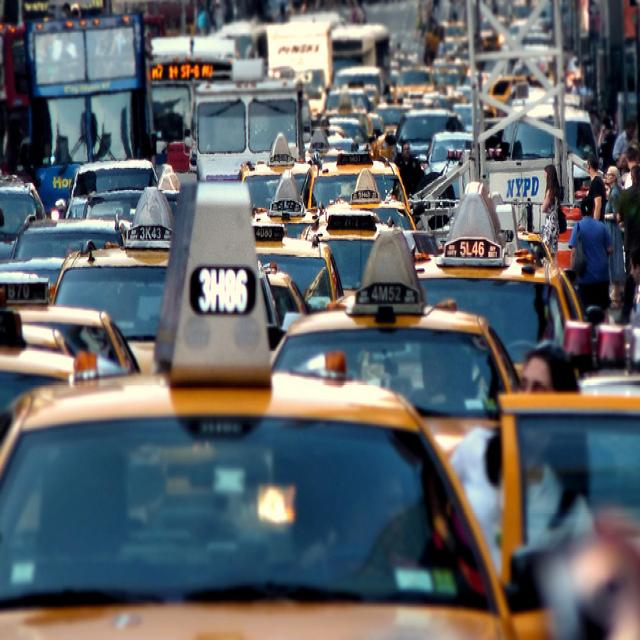Vehicle: (0, 185, 554, 640), (270, 230, 524, 460), (416, 182, 582, 374), (27, 10, 155, 203), (47, 187, 177, 376), (190, 69, 305, 183), (185, 79, 307, 184), (0, 346, 141, 412), (3, 304, 140, 371), (150, 36, 234, 140), (10, 214, 126, 283), (302, 203, 383, 297), (255, 234, 344, 314), (299, 153, 406, 212), (325, 168, 418, 230), (67, 160, 159, 216), (268, 21, 334, 88), (332, 22, 391, 81)
